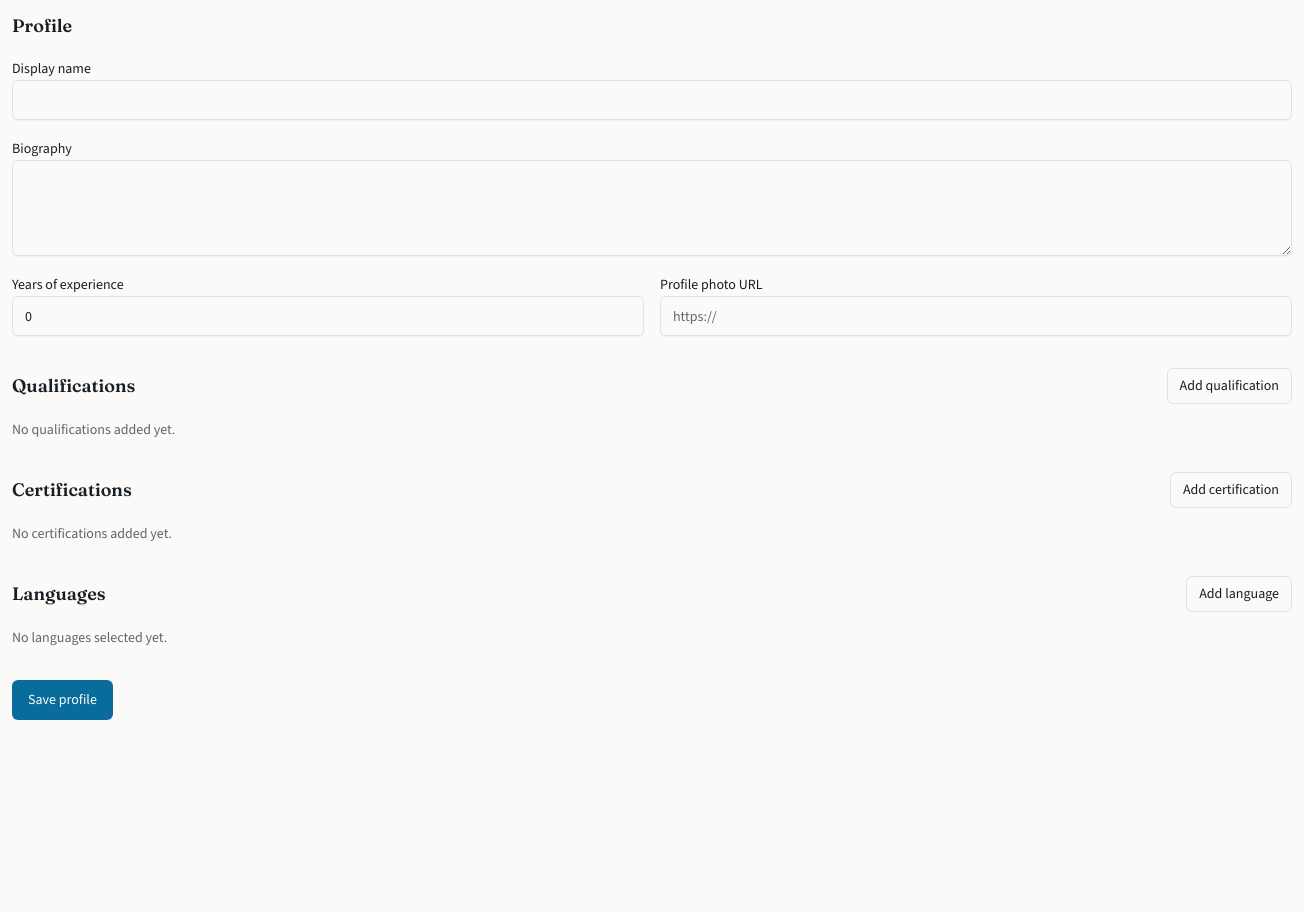
Test: ProviderProfileForm › validates display name length
In the field labelled "Display name": (652, 100) [12, 80, 1292, 120], type "A"
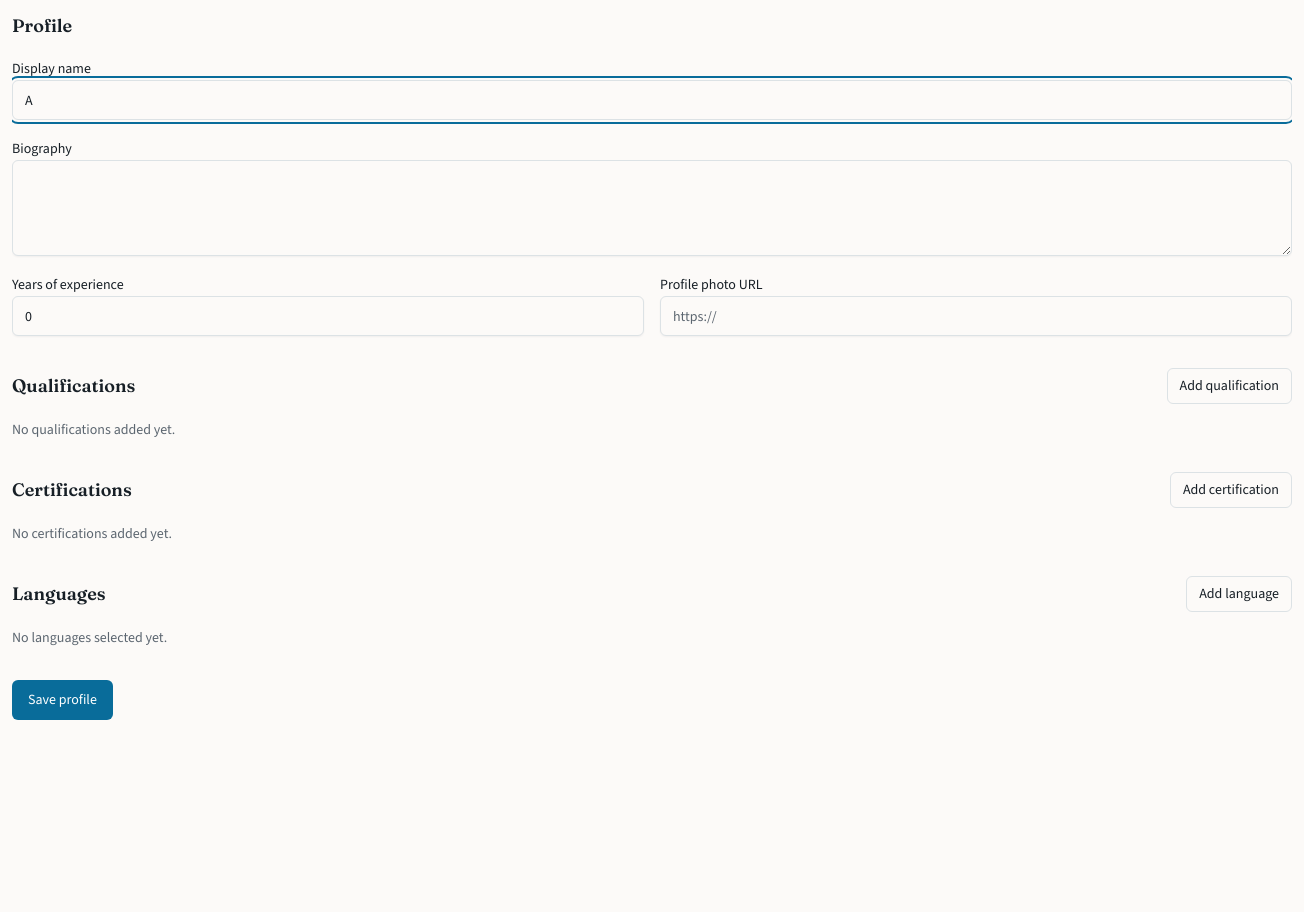
Click the button "Save profile": click(62, 700) [12, 680, 113, 720]
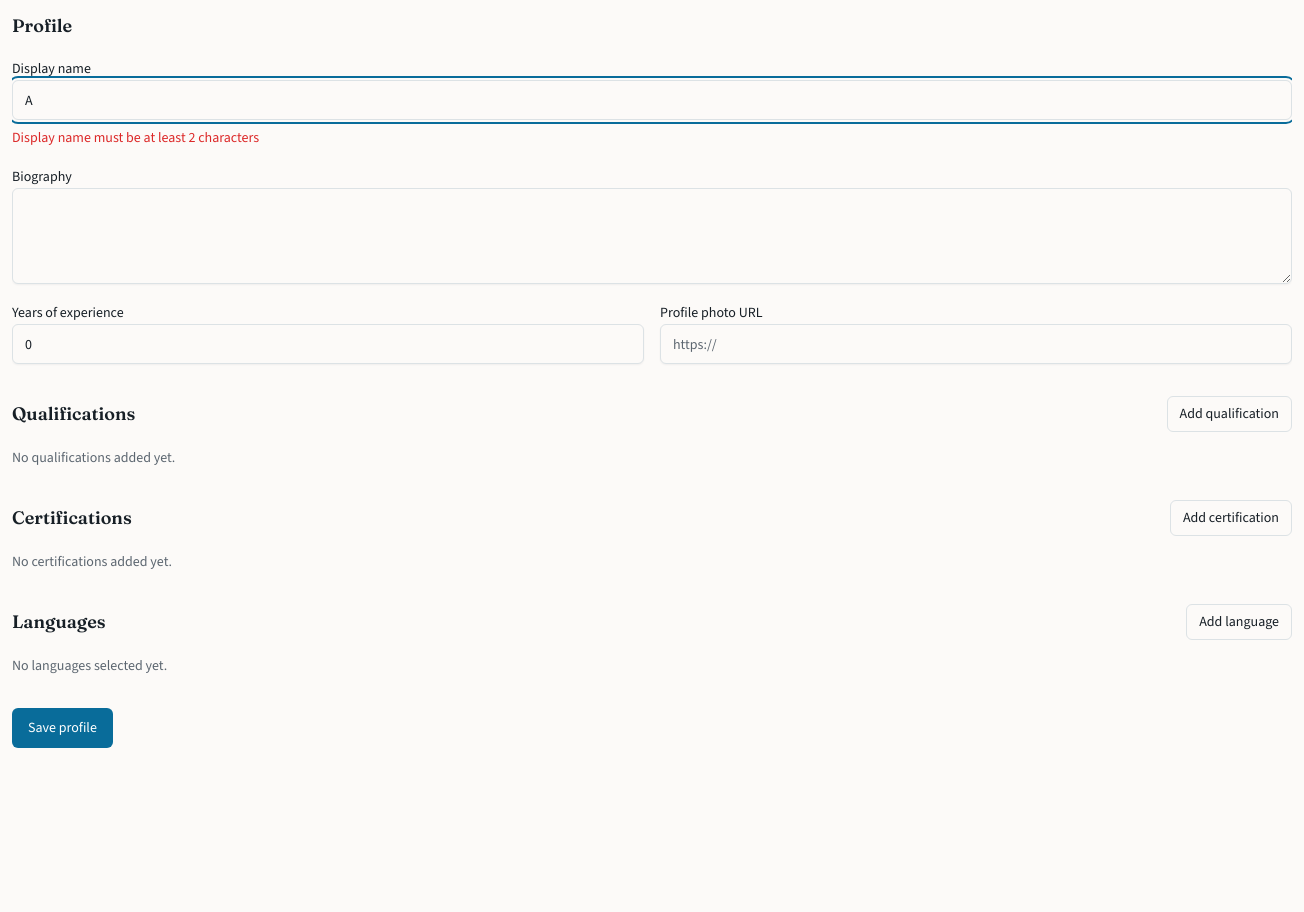
expect the text "Display name must be at least 2 characters" is shown: met, box [12, 128, 259, 147]
